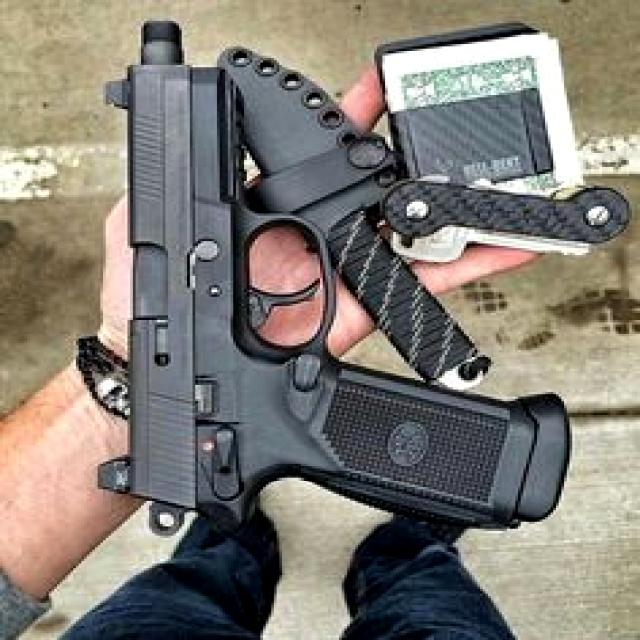semi automatic: (75, 11, 588, 535)
